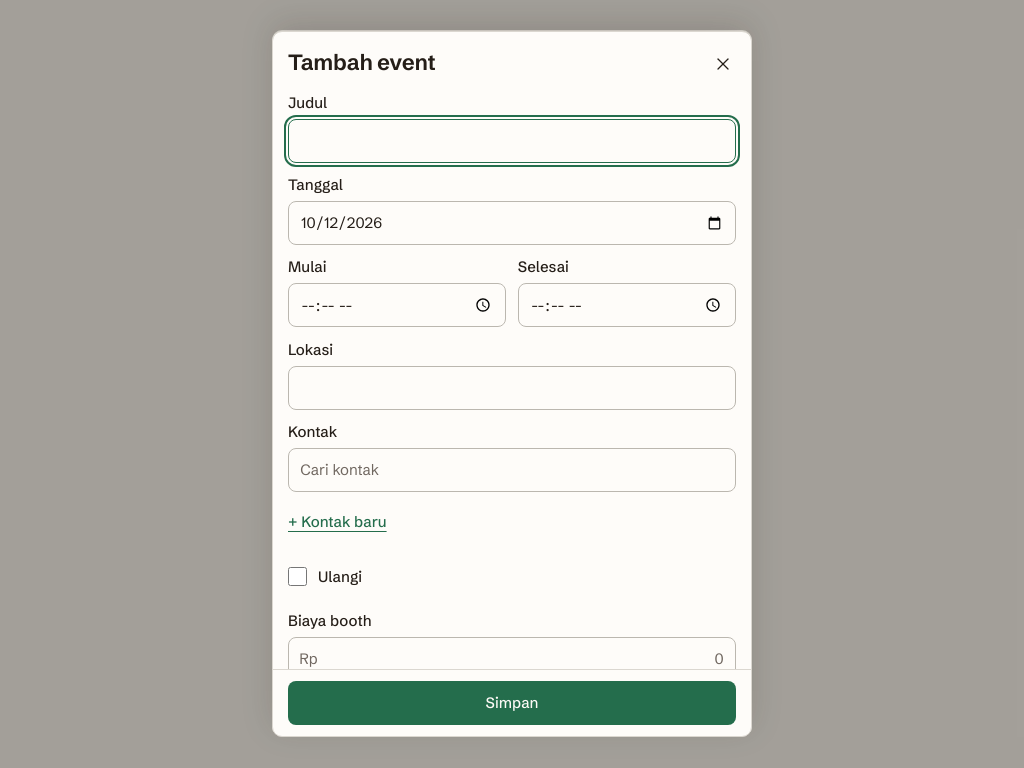
Test: shows plain-Indonesian errors for missing judul and lokasi
What coordinates should you click on to do the following:
click the button "Simpan"
I would click on:
 (512, 703)
Its box is [288, 681, 736, 725].
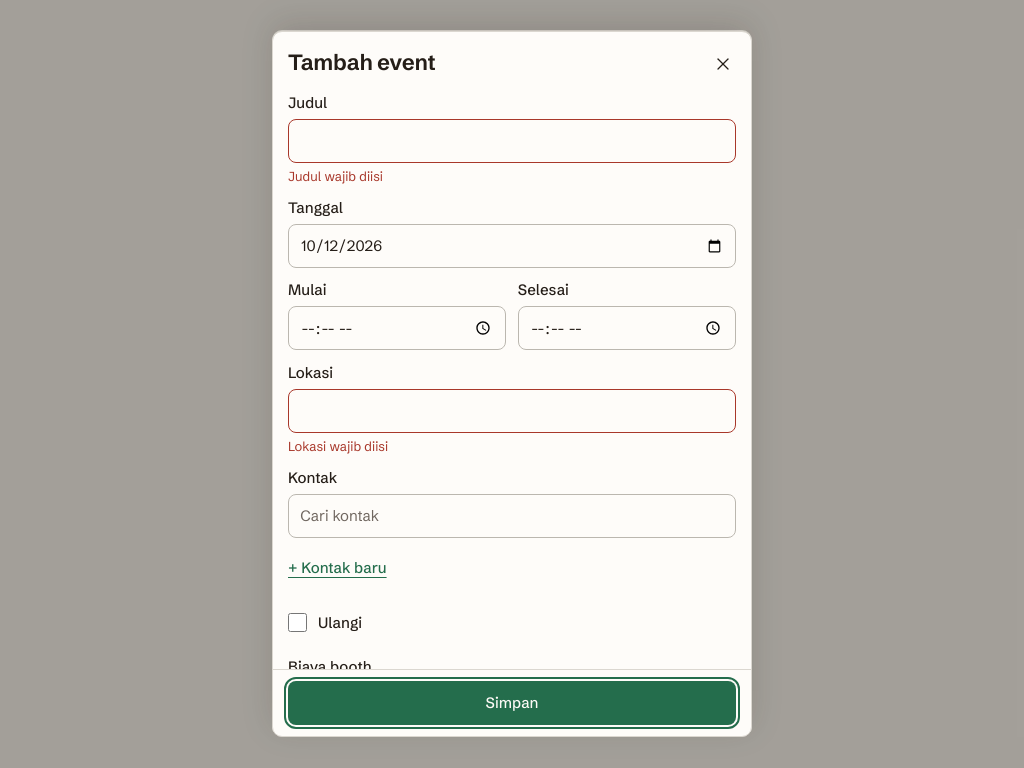
Result: the text "Judul wajib diisi" is shown at [288, 168, 383, 184]
Result: the text "Lokasi wajib diisi" is shown at [288, 438, 388, 454]
